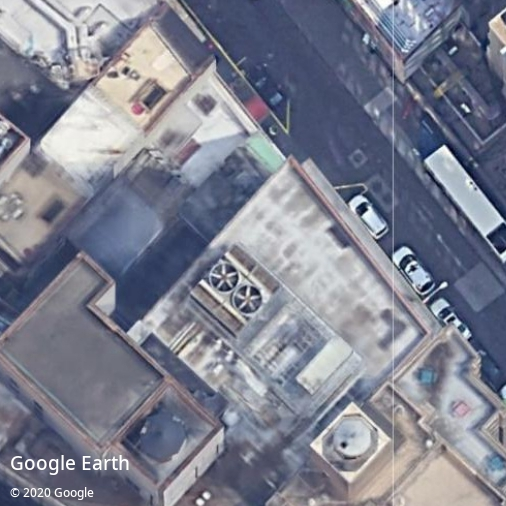Vent: (210, 263, 239, 293), (233, 285, 263, 314)
